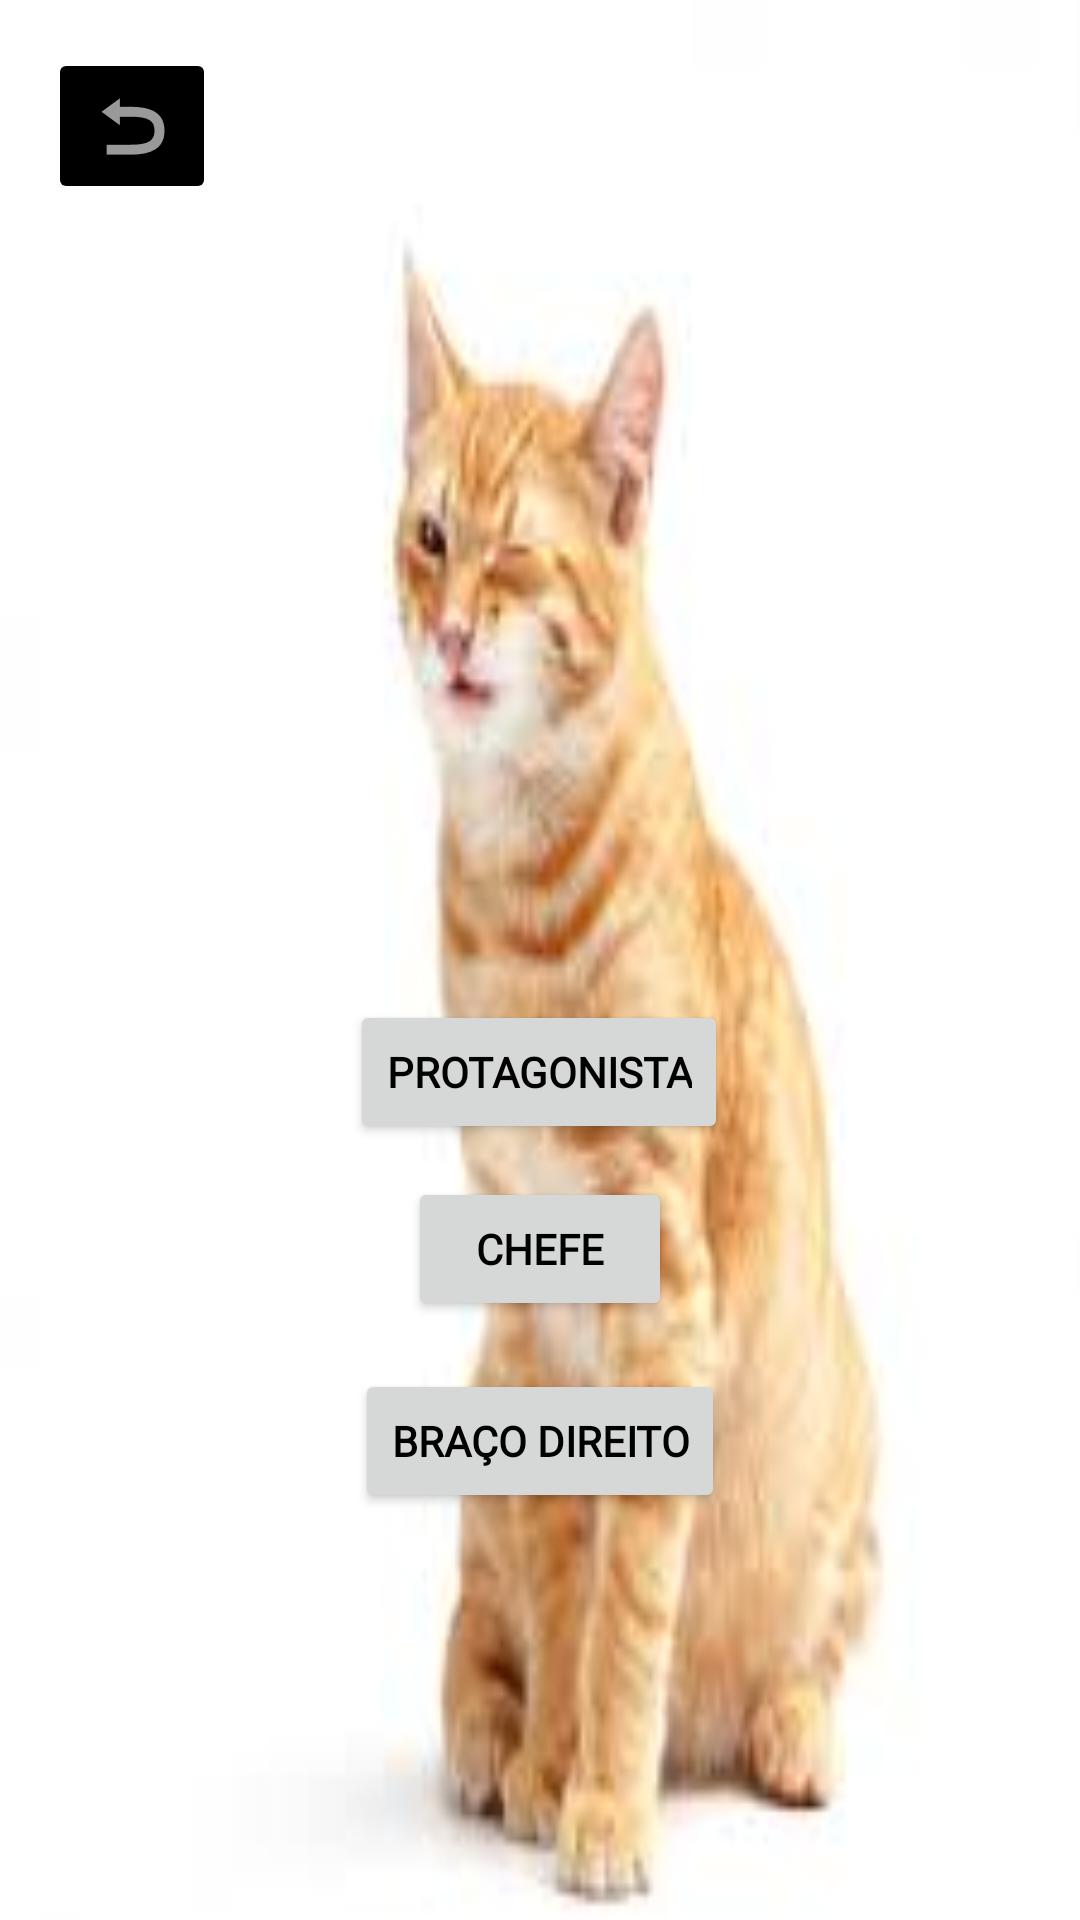

Icon bounding boxes for this 1080w x 1920h phone screenshot, format rect(x1, y1, x2, y2):
revert: rect(60, 66, 204, 186)
